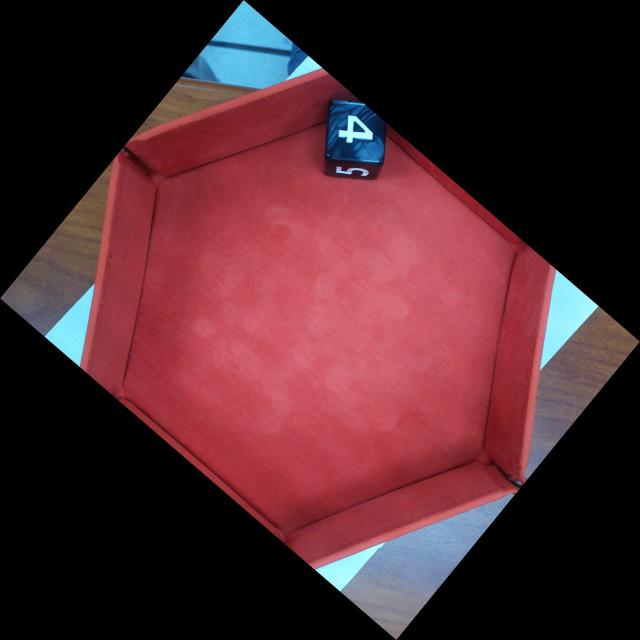dice: (325, 99, 390, 164)
